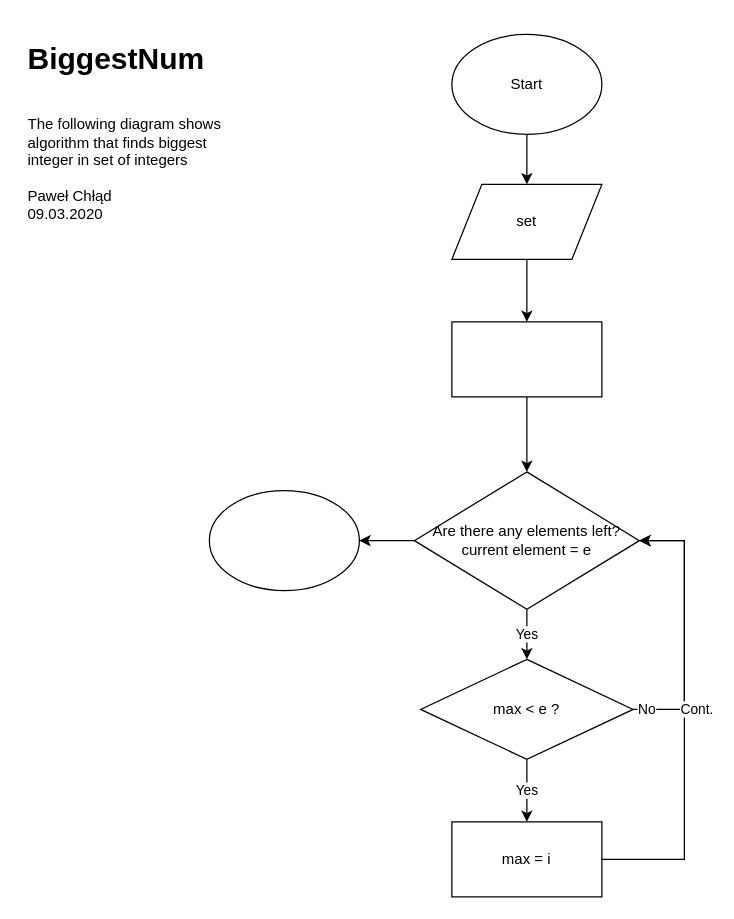
Some shapes in this 734 by 919 pixel diagram are drawn without their labels. Here are the shapes that lost their labels. From the top down, the box of each, then its label:
(451, 321, 602, 397): max = int.MinValue
(208, 489, 359, 591): Return max
